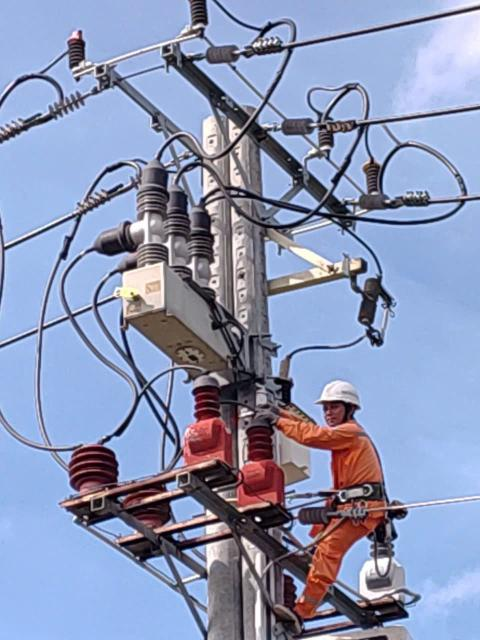gloves: (251, 401, 282, 427)
harness: (329, 476, 396, 511)
helmet: (316, 375, 364, 416)
shoes: (272, 600, 309, 640)
